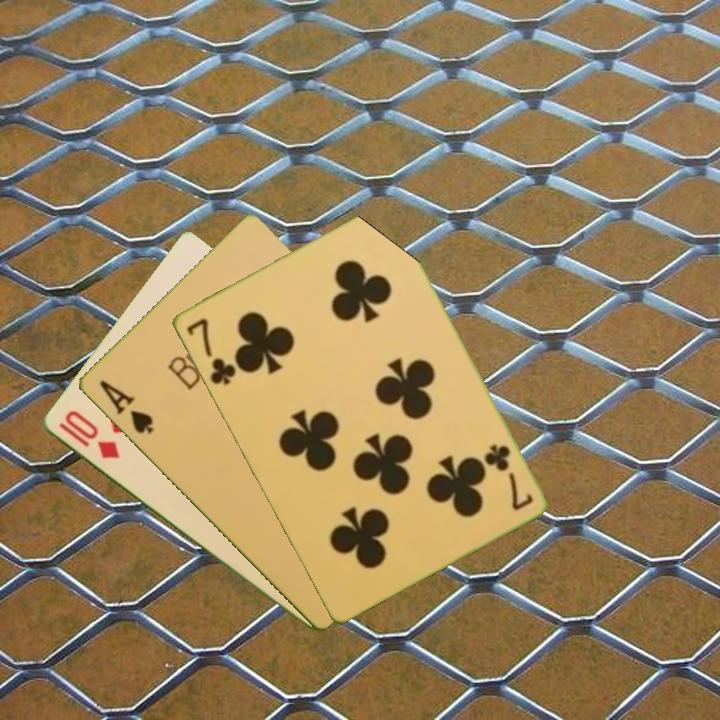10d: (54, 406, 123, 462)
7c: (182, 314, 238, 388), (480, 440, 536, 514)
As: (95, 376, 156, 437)
